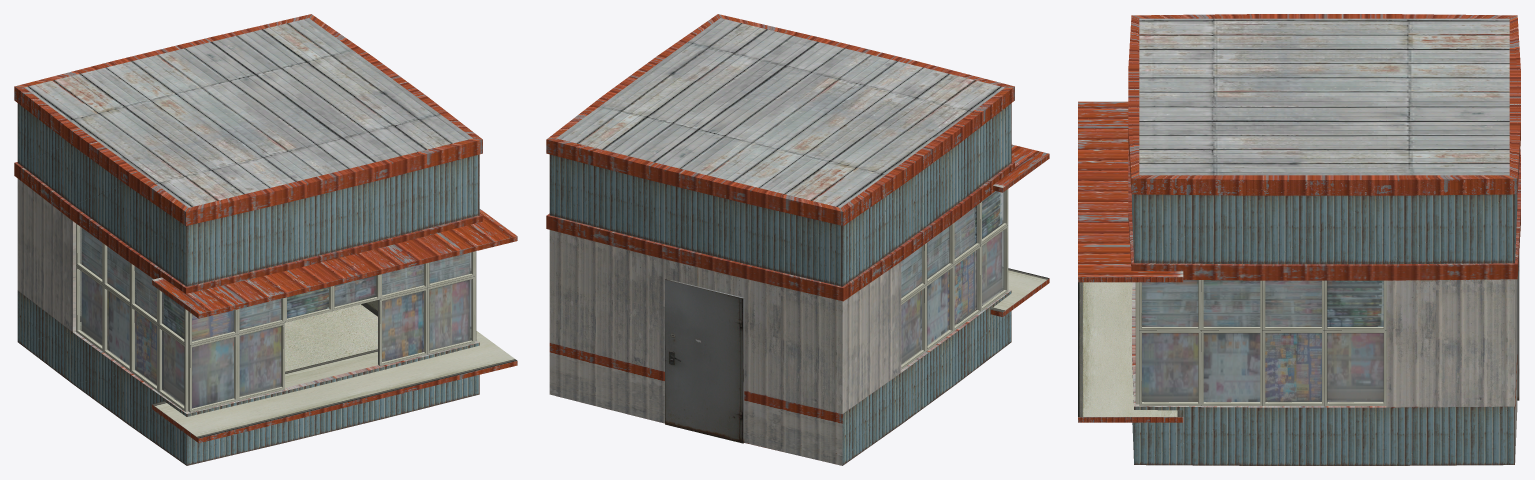
File: simple_kiosk.glb
The picture shows the model from 3 angles, left to right: view 1: azimuth 30°, elevation 25°; view 2: azimuth 150°, elevation 25°; view 3: azimuth 270°, elevation 25°; orthographic projection. The views are drawn at different scales.
Visible parts, largest first — view 1: Object_6, Object_3, Object_4, Object_8, Object_7, Object_2; view 2: Object_4, Object_6, Object_3, Object_5, Object_8, Object_7, Object_2; view 3: Object_6, Object_3, Object_4, Object_7, Object_8, Object_2.
Boxes of the visible parts, <box> form: Object_6: <box>24,18,472,207</box>; Object_3: <box>17,103,479,465</box>; Object_4: <box>14,14,517,442</box>; Object_8: <box>80,226,471,408</box>; Object_7: <box>81,228,470,408</box>; Object_2: <box>76,223,516,438</box>; Object_4: <box>546,14,1049,465</box>; Object_6: <box>556,18,1004,207</box>; Object_3: <box>549,103,1011,465</box>; Object_5: <box>665,279,744,443</box>; Object_8: <box>901,191,1004,364</box>; Object_7: <box>901,191,1002,363</box>; Object_2: <box>901,189,1048,369</box>; Object_6: <box>1139,18,1509,175</box>; Object_3: <box>1132,194,1517,465</box>; Object_4: <box>1078,14,1520,462</box>; Object_7: <box>1142,280,1383,401</box>; Object_8: <box>1142,280,1383,401</box>; Object_2: <box>1078,280,1386,416</box>.
Bounding box in the file's own units: 5.59 × 4.28 × 5.98.
7 materials, 7 textured.
